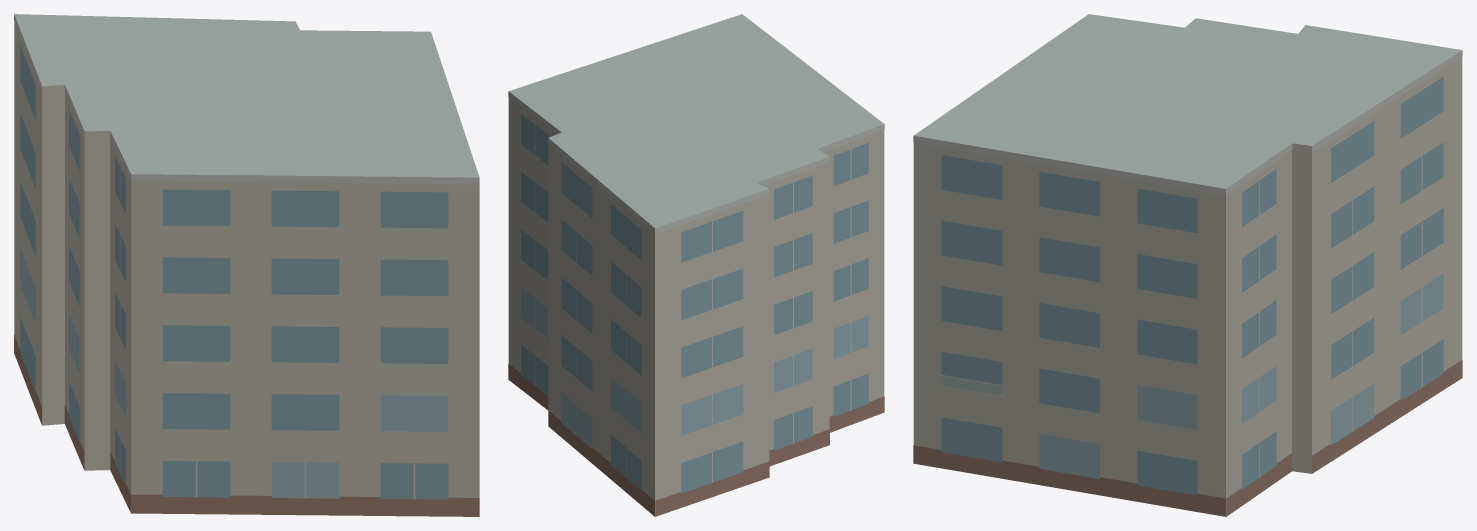
The model's file is survey-upis-32666964.glb.
3 views of the same model, side by side, from view 1: azimuth 30°, elevation 25°; view 2: azimuth 150°, elevation 25°; view 3: azimuth 270°, elevation 25° (orthographic). The views are drawn at different scales.
Visible parts, largest first — view 1: survey-upis-32666964.tmp; view 2: survey-upis-32666964.tmp; view 3: survey-upis-32666964.tmp.
Part boxes in pixels (x1,y1,x2,y2): survey-upis-32666964.tmp: [14, 14, 479, 516]; survey-upis-32666964.tmp: [508, 14, 884, 516]; survey-upis-32666964.tmp: [913, 14, 1462, 516].
Size of the model in its own units: 13.86 by 12.1 by 18.37.
